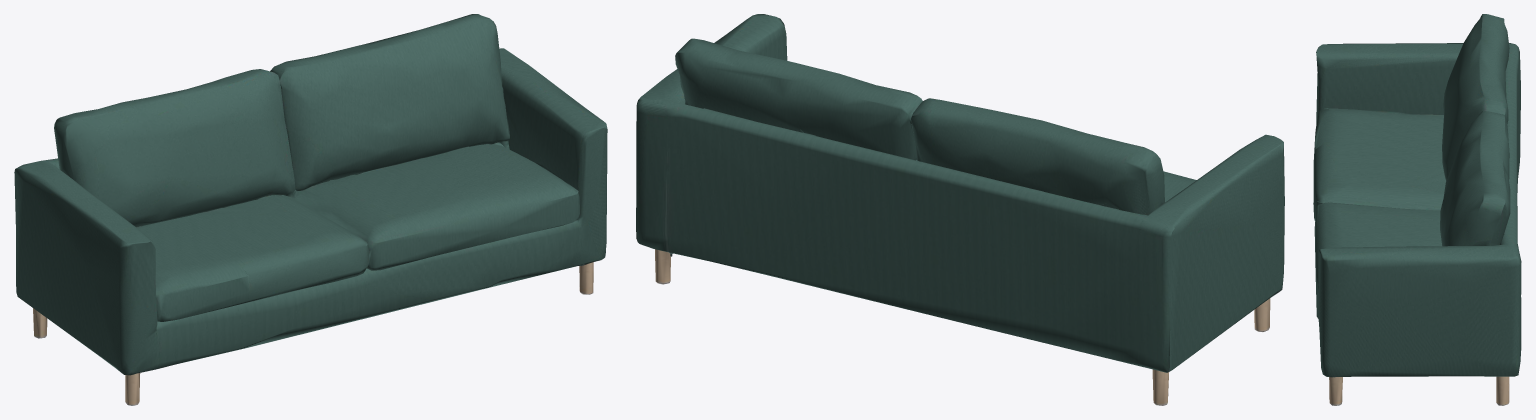
File: parup_pokrycie_sofy_3_osobowej_30567483.glb
The picture shows the model from 3 angles, left to right: view 1: azimuth 30°, elevation 25°; view 2: azimuth 150°, elevation 25°; view 3: azimuth 270°, elevation 25°; orthographic projection. The views are drawn at different scales.
Visible parts, largest first — view 1: parup_pokrycie_sofy_3_osobowej_30567483; view 2: parup_pokrycie_sofy_3_osobowej_30567483; view 3: parup_pokrycie_sofy_3_osobowej_30567483.
Part boxes in pixels (bbox=[...]): parup_pokrycie_sofy_3_osobowej_30567483: bbox=[14, 14, 607, 405]; parup_pokrycie_sofy_3_osobowej_30567483: bbox=[636, 14, 1284, 405]; parup_pokrycie_sofy_3_osobowej_30567483: bbox=[1313, 14, 1521, 405].
Size of the model in its own units: 2.07 by 0.8819 by 0.8362.
Materials: 1 (1 with a texture image).
